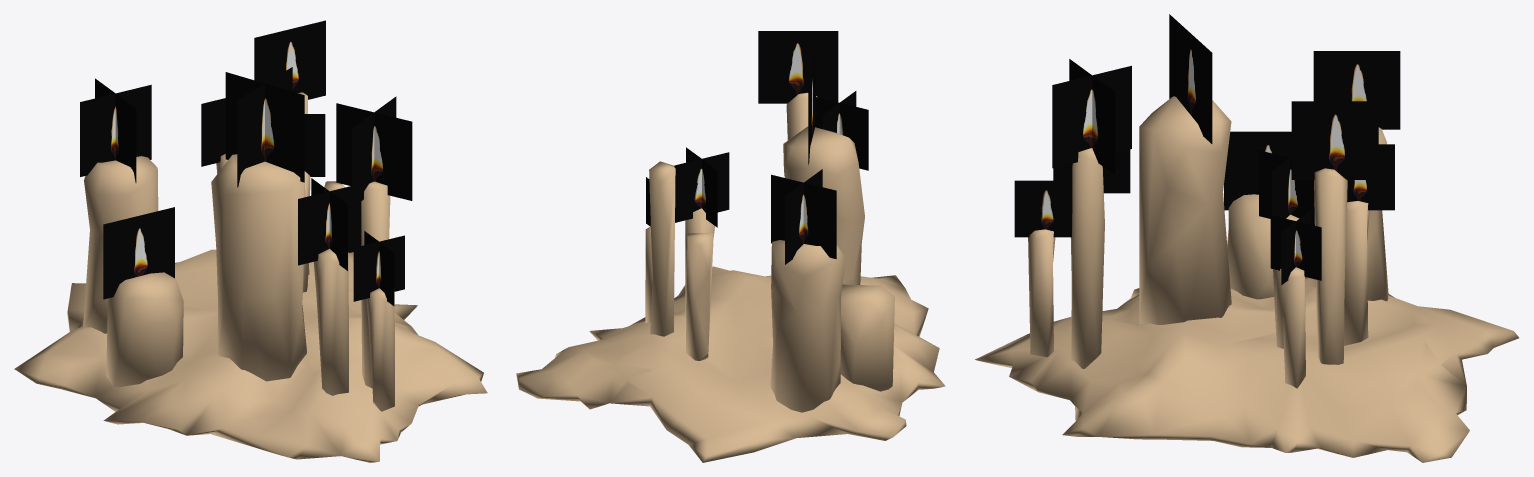
File: SM_candle_set_02.fbx
The picture shows the model from 3 angles, left to right: view 1: azimuth 30°, elevation 25°; view 2: azimuth 150°, elevation 25°; view 3: azimuth 270°, elevation 25°; orthographic projection. The views are drawn at different scales.
Visible parts, largest first — view 1: Candleset_2; view 2: Candleset_2; view 3: Candleset_2.
Part boxes in pixels (bbox=[...]): Candleset_2: bbox=[14, 20, 487, 462]; Candleset_2: bbox=[516, 31, 945, 462]; Candleset_2: bbox=[975, 14, 1518, 462].
Bounding box in the file's own units: 21.76 × 17.26 × 25.58.
